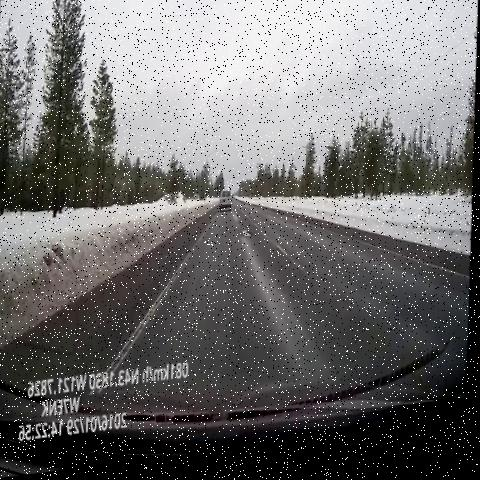pothole: (234, 218, 258, 254)
